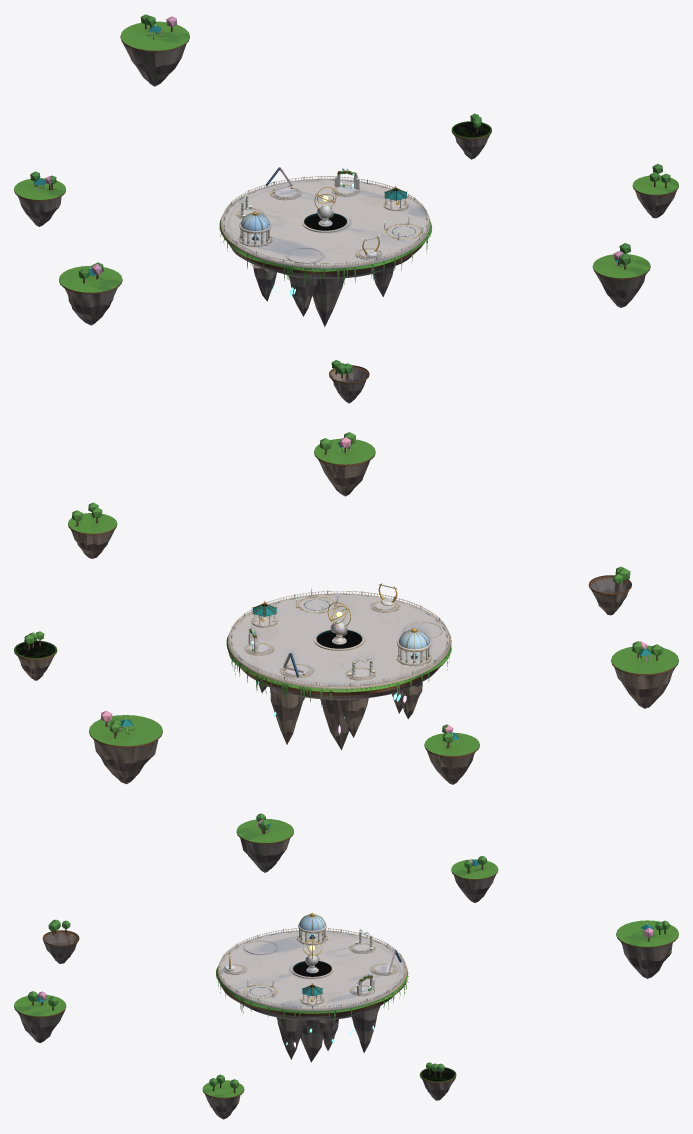
The model's file is hub_plaza.glb.
The picture shows the model from 3 angles, top to bottom: view 1: azimuth 30°, elevation 25°; view 2: azimuth 150°, elevation 25°; view 3: azimuth 270°, elevation 25°; orthographic projection. The views are drawn at different scales.
Visible parts, largest first — view 1: hp_far, hp_floor, hp_under, hp_rim, hp_platforms, hp_pool; view 2: hp_far, hp_floor, hp_under, hp_rim, hp_platforms, hp_pool; view 3: hp_far, hp_floor, hp_under, hp_rim, hp_platforms, hp_pool.
Part boxes in pixels (bbox=[...]): hp_far: bbox=[14, 14, 678, 403]; hp_floor: bbox=[223, 179, 427, 265]; hp_under: bbox=[219, 217, 432, 326]; hp_rim: bbox=[220, 176, 430, 268]; hp_platforms: bbox=[236, 184, 421, 263]; hp_pool: bbox=[301, 208, 349, 232]; hp_far: bbox=[14, 432, 678, 784]; hp_floor: bbox=[231, 594, 447, 686]; hp_under: bbox=[226, 635, 451, 749]; hp_rim: bbox=[227, 590, 450, 689]; hp_platforms: bbox=[244, 597, 442, 680]; hp_pool: bbox=[314, 625, 364, 650]; hp_far: bbox=[14, 813, 678, 1119]; hp_floor: bbox=[220, 931, 404, 1008]; hp_under: bbox=[216, 967, 408, 1062]; hp_rim: bbox=[217, 928, 407, 1011]; hp_platforms: bbox=[223, 933, 397, 1005]; hp_pool: bbox=[291, 957, 333, 978].
Bounding box in the file's own units: 235 × 63.24 × 254.
